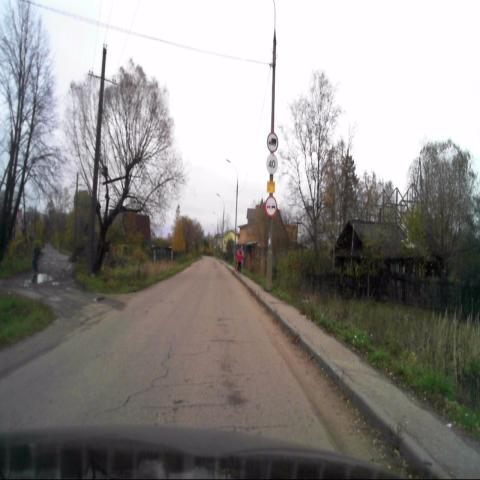3_4_1: (266, 131, 279, 153)
